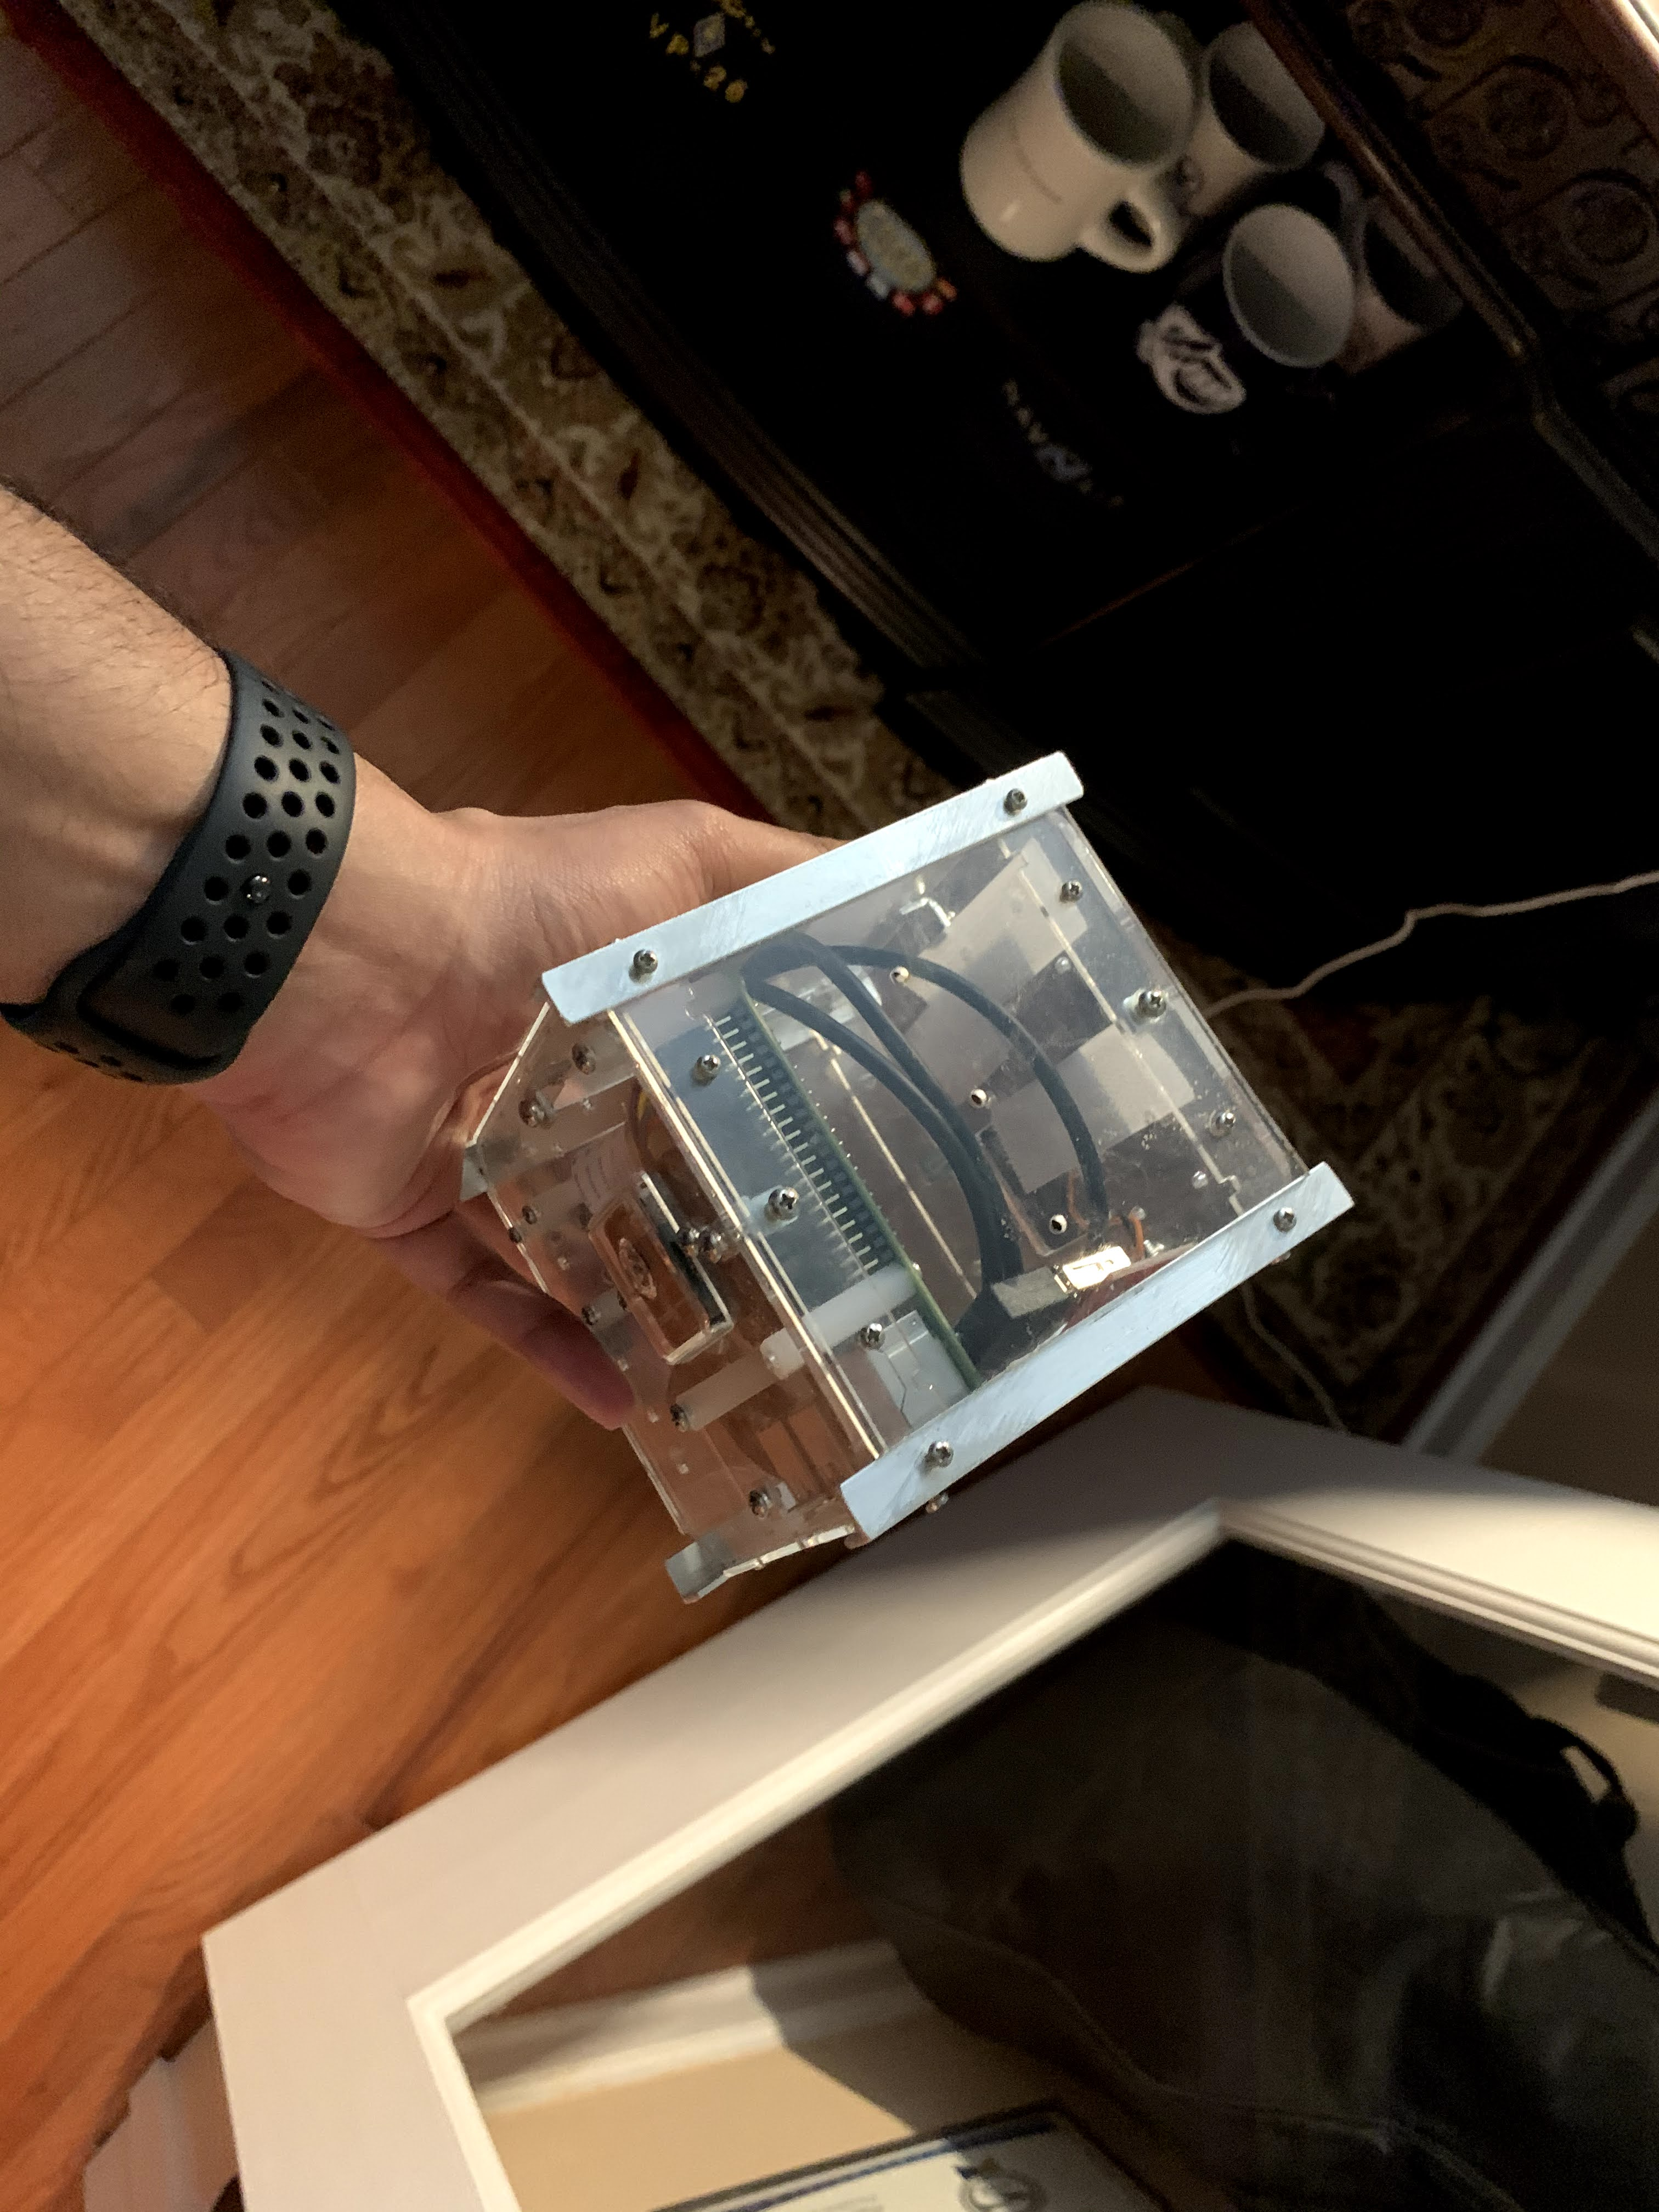Space-debris-cubesat: (460, 719, 1387, 1602)
